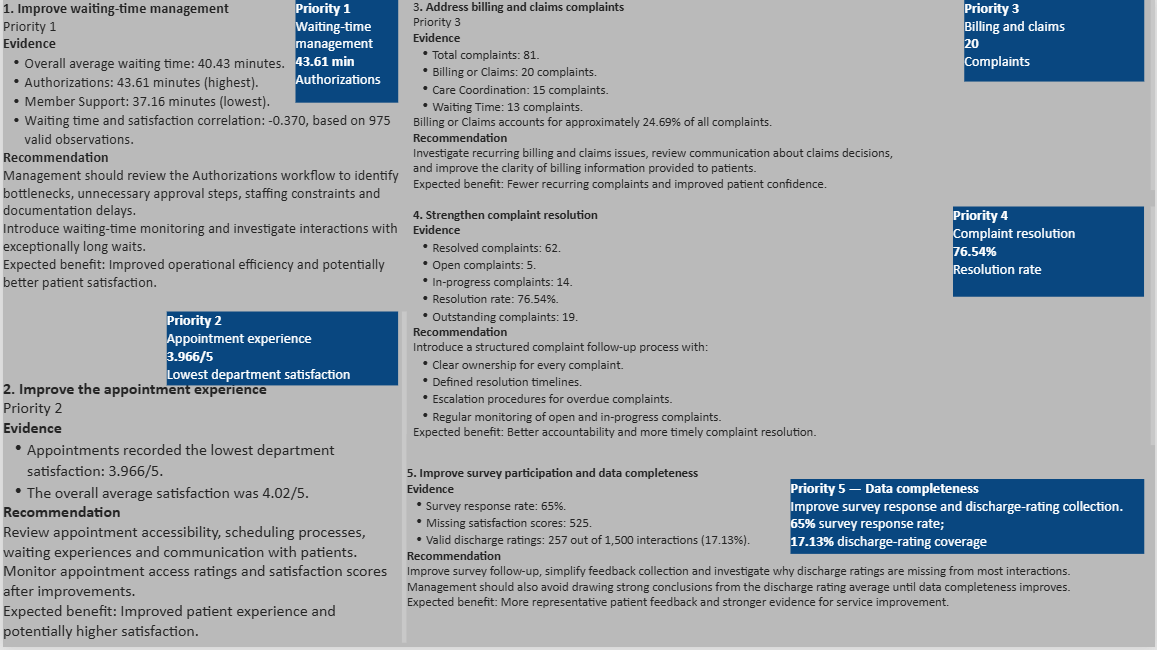

The dashboard page shown, as its layout file describes it:
{"tool":"powerbi","page":{"name":"05 Management Insights","canvas":[1920,1080],"ordinal":5},"visuals":[{"type":"textbox","box":[0,0,672.9,520.8],"z":0},{"type":"textbox","box":[0,520.8,672.9,558.3],"z":1000},{"type":"textbox","box":[683.3,0,1237.5,345.8],"z":2000},{"type":"textbox","box":[672.9,777.1,1247.9,302.1],"z":3000},{"type":"textbox","box":[683.3,345.8,1237.5,410.4],"z":4000},{"type":"textbox","box":[1583.3,345.8,318.8,150],"z":5000},{"type":"textbox","box":[1312.5,800,589.6,125],"z":6000},{"type":"textbox","box":[1602.1,0,300,137.5],"z":7000},{"type":"textbox","box":[487.5,0,170.8,172.9],"z":8000},{"type":"textbox","box":[272.9,520.8,385.4,122.9],"z":9000}]}

Visuals, with their boxes in screenshot pixels (x1, y1, x2, y2), scaled from the page's 1920x1080 canvas onto the 1157x650 screenshot:
textbox: <region>0, 0, 405, 313</region>
textbox: <region>0, 313, 405, 649</region>
textbox: <region>412, 0, 1156, 208</region>
textbox: <region>405, 468, 1156, 649</region>
textbox: <region>412, 208, 1156, 455</region>
textbox: <region>954, 208, 1146, 298</region>
textbox: <region>791, 481, 1146, 557</region>
textbox: <region>965, 0, 1146, 83</region>
textbox: <region>294, 0, 397, 104</region>
textbox: <region>164, 313, 397, 387</region>
